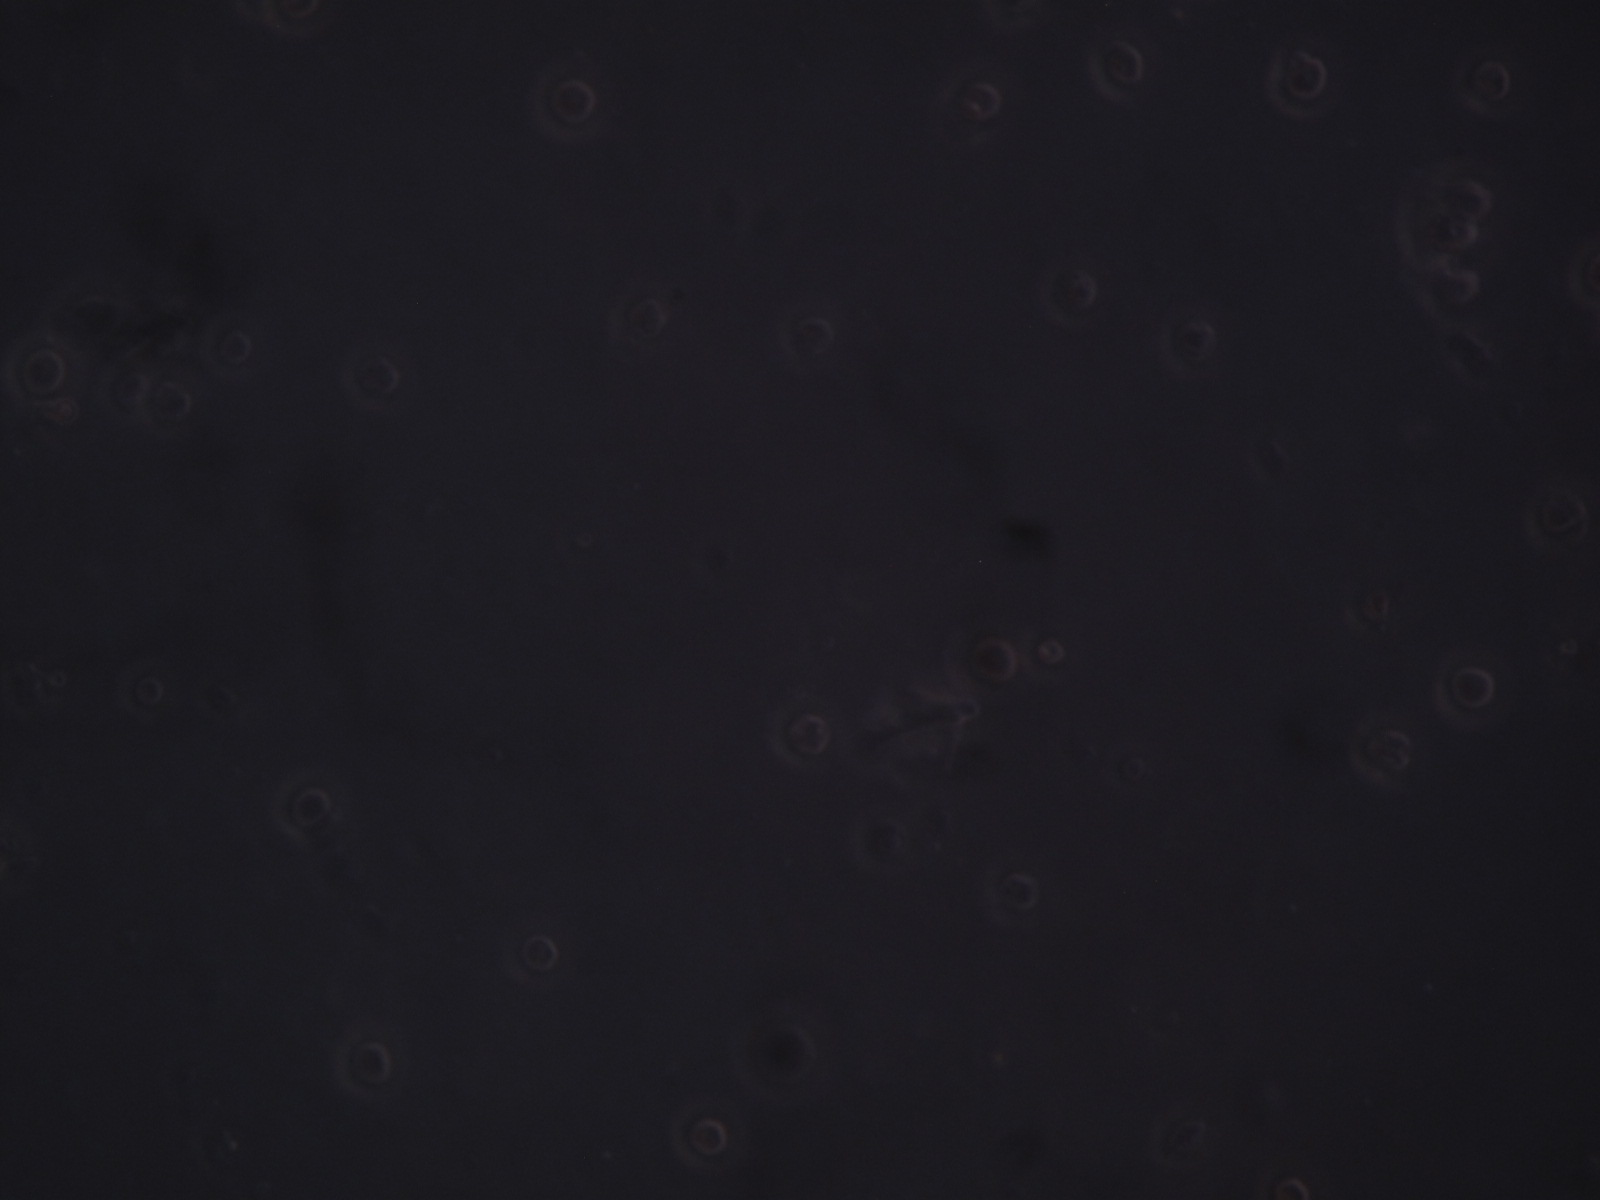hemo: (729, 1007, 816, 1105), (528, 62, 602, 146), (1391, 248, 1480, 316), (762, 689, 838, 769), (944, 621, 1018, 701), (1409, 158, 1490, 221), (8, 337, 83, 405), (331, 1025, 393, 1105), (1353, 710, 1411, 793), (980, 851, 1038, 932), (271, 766, 333, 841), (1435, 655, 1495, 731), (1264, 49, 1327, 120), (847, 804, 908, 874), (673, 1097, 726, 1175), (1036, 260, 1097, 326), (340, 344, 399, 413), (501, 920, 559, 991), (606, 287, 666, 353), (1159, 306, 1218, 373), (940, 73, 998, 140), (775, 301, 834, 366), (1453, 57, 1512, 120), (1087, 38, 1141, 106), (199, 315, 254, 379), (144, 376, 191, 440), (1020, 624, 1068, 687), (117, 658, 165, 718)
